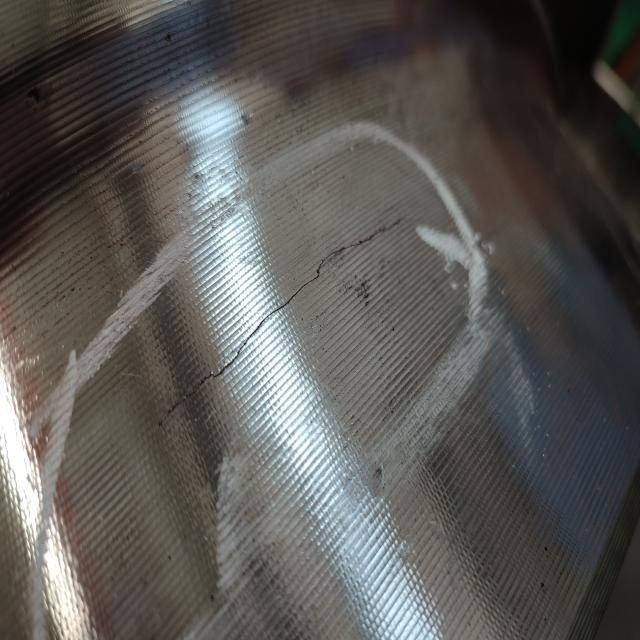Brake_Thermal_Cracks: (152, 203, 410, 433)
